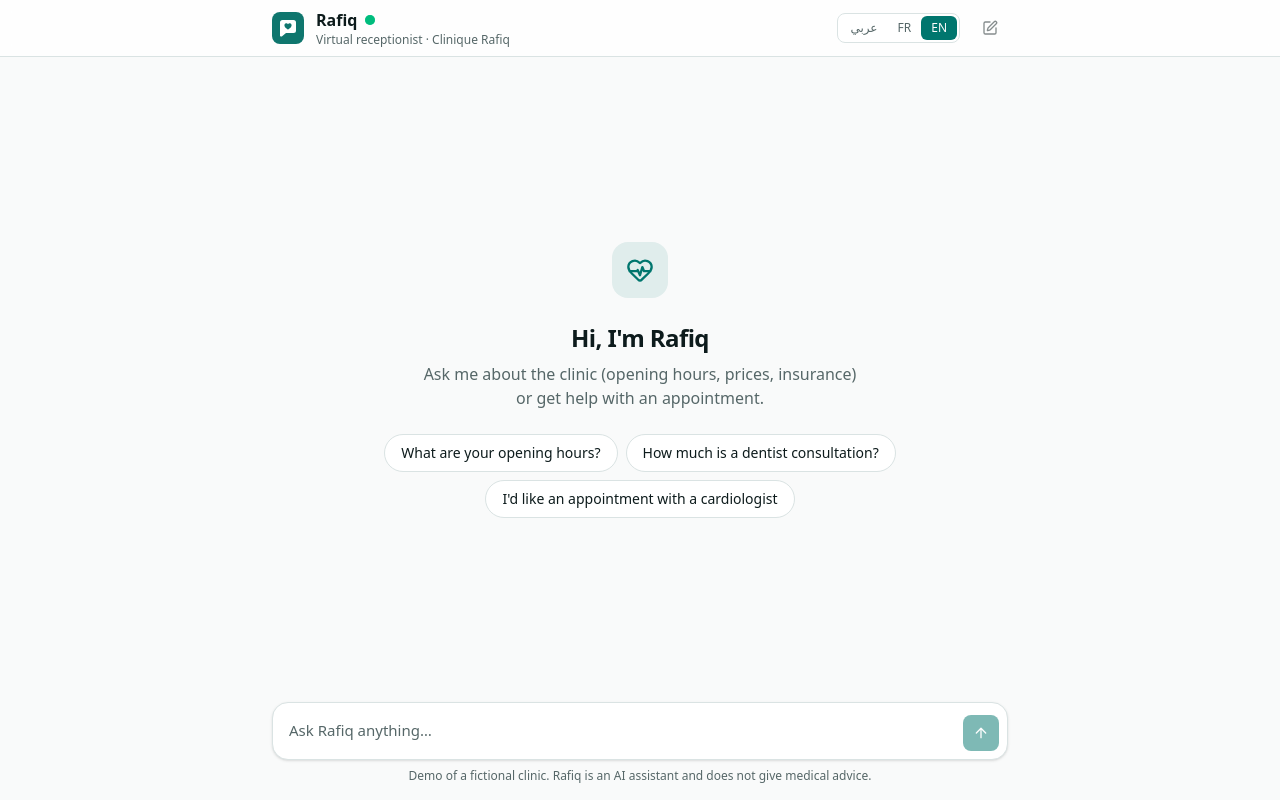
App › streams the assistant reply and remembers the conversation
Type "Bonjour" into the text box at [618, 731], box [281, 711, 955, 751]
Then press Enter
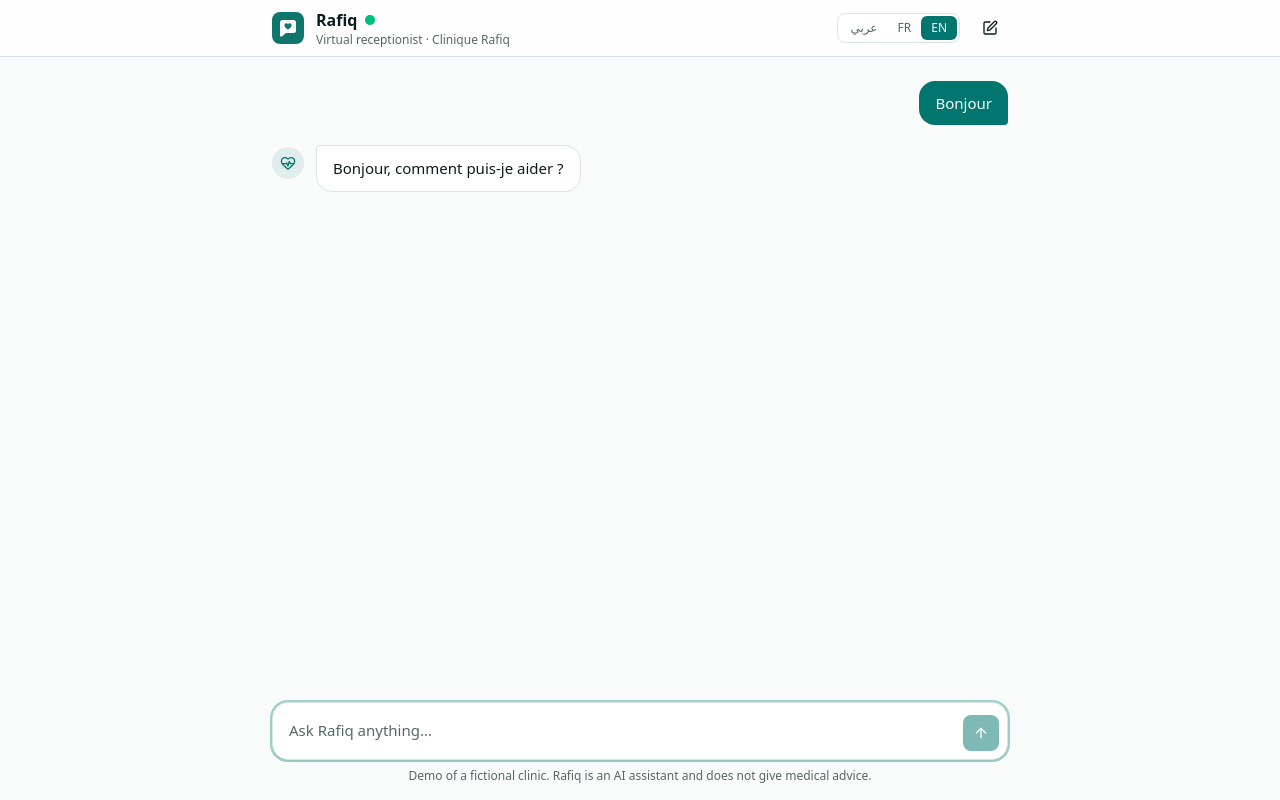
Expected: the text "Bonjour, comment puis-je aider ?" is shown, [316, 145, 581, 192]
Expected: the text "Bonjour" is shown, [920, 81, 1008, 125]
